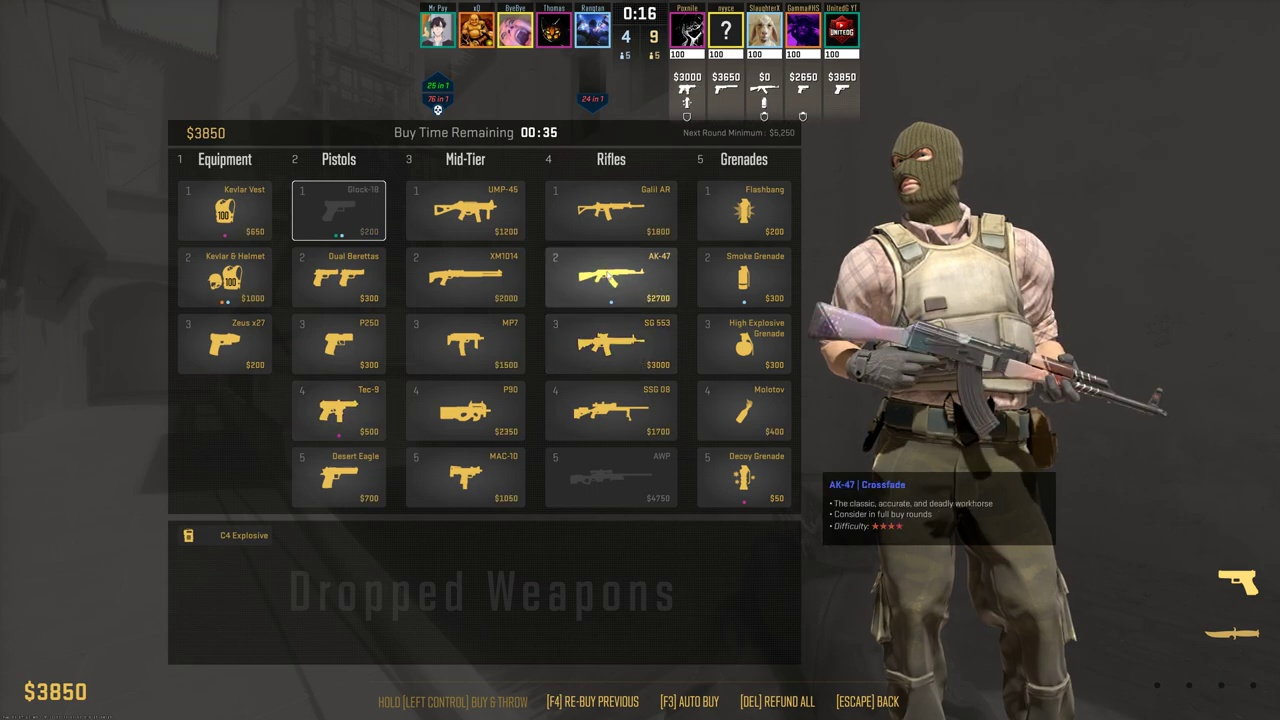Terrorist: (846, 121, 1072, 711)
